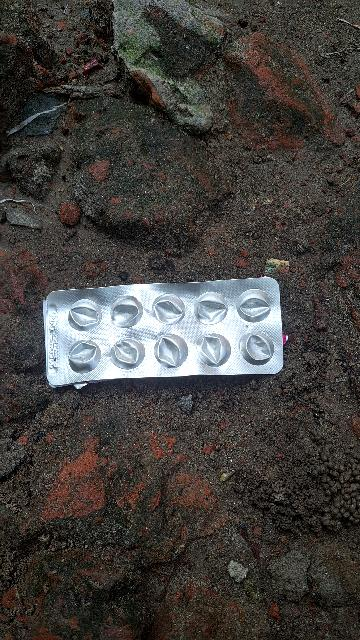medicine: (40, 262, 302, 390)
